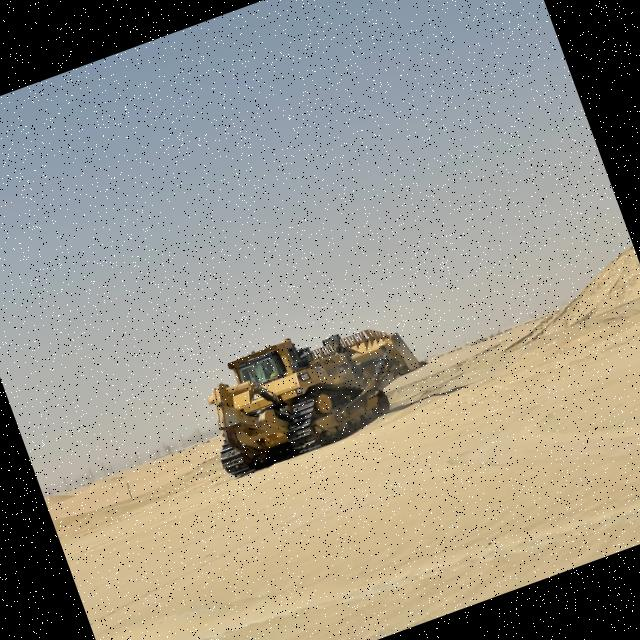Bulldozer: (184, 288, 444, 486)
